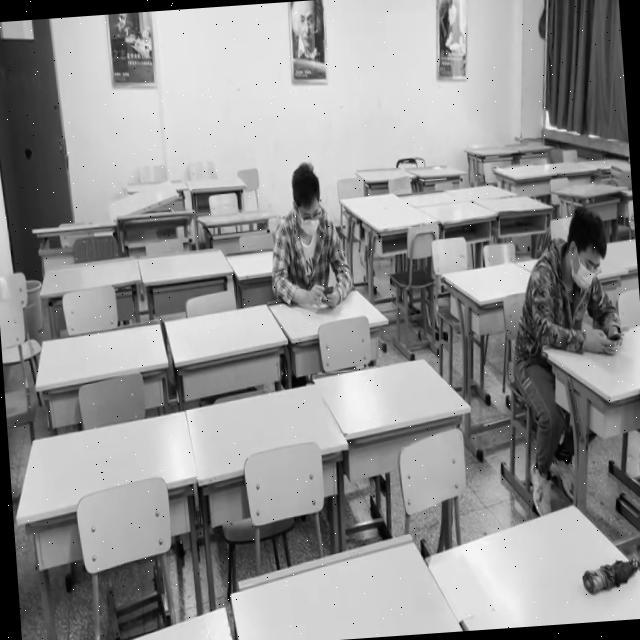phone: (534, 204, 624, 359), (266, 163, 351, 304)
